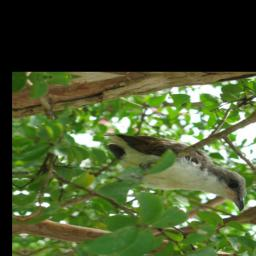Cuckoo: (99, 129, 249, 213)
